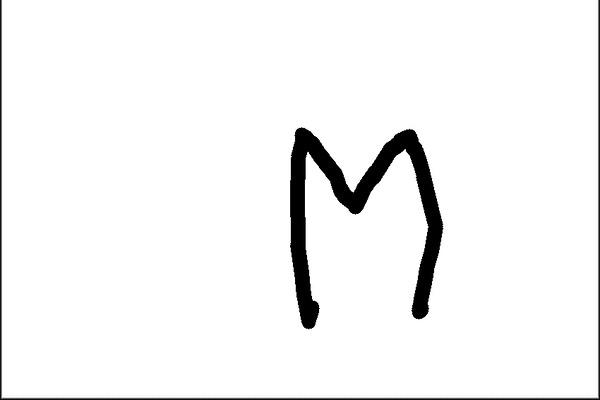M: (283, 120, 434, 325)
